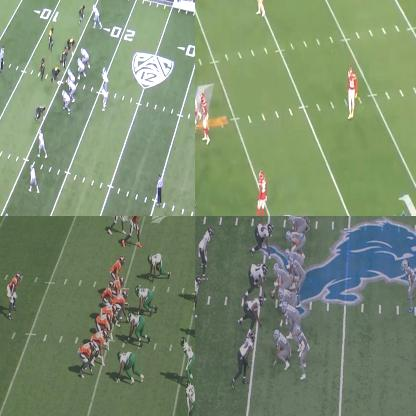CENTER: (270, 261, 284, 298), (116, 289, 129, 321), (67, 68, 75, 82)
DB: (346, 68, 358, 119), (257, 170, 265, 215), (186, 381, 194, 415), (253, 0, 266, 14), (78, 4, 84, 24)
LB: (235, 330, 253, 385), (198, 228, 212, 272), (195, 270, 203, 330), (183, 339, 194, 379), (48, 24, 55, 47), (40, 58, 45, 78)
QB: (290, 255, 305, 296), (103, 280, 113, 302), (102, 66, 107, 81)
SKILL: (295, 322, 310, 378), (401, 258, 415, 315), (275, 328, 290, 370), (76, 342, 94, 376), (8, 272, 20, 318), (130, 216, 145, 248), (96, 330, 108, 366), (288, 216, 309, 233), (39, 128, 48, 157), (109, 216, 127, 230), (31, 164, 38, 193), (94, 3, 102, 28), (103, 88, 109, 110)
